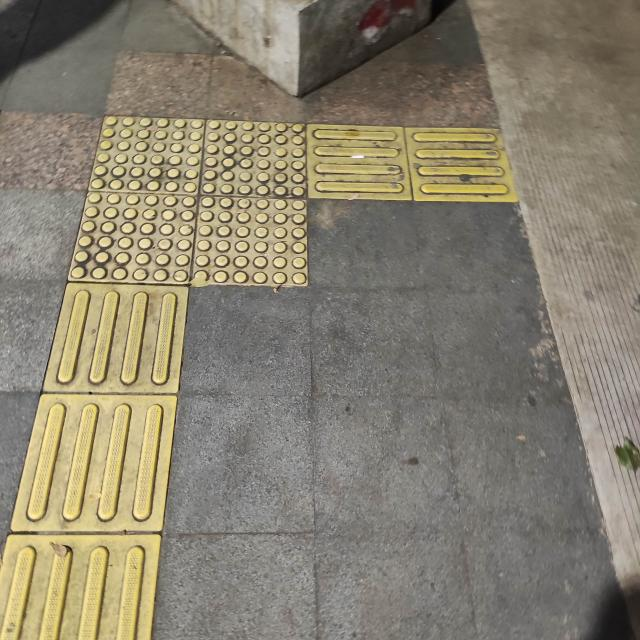kanan: (9, 72, 489, 370)
